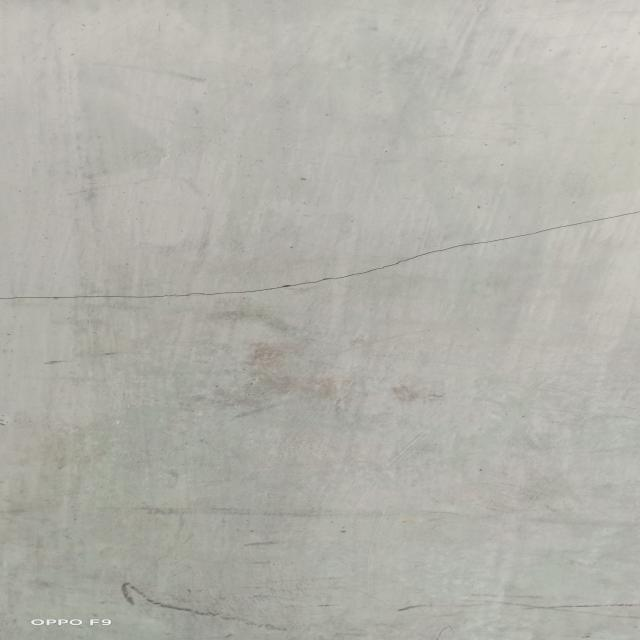Crack: (10, 233, 442, 304), (448, 214, 640, 249)
